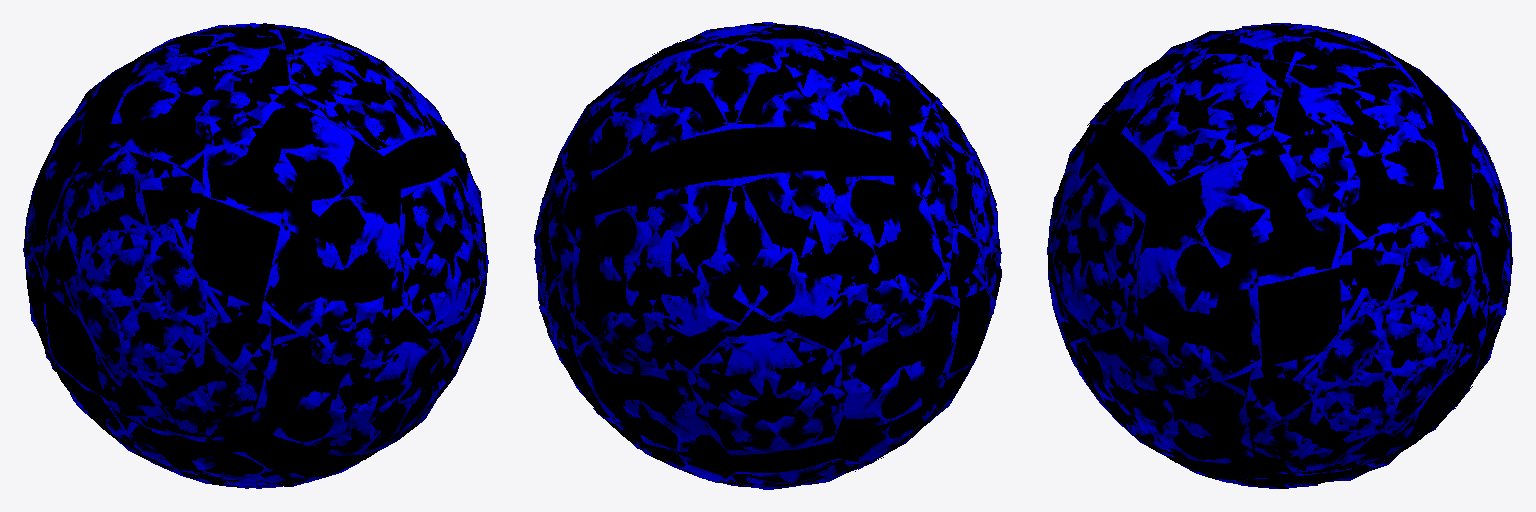
3 views of the same model, side by side, from view 1: azimuth 30°, elevation 25°; view 2: azimuth 150°, elevation 25°; view 3: azimuth 270°, elevation 25° (orthographic).
Parts seen in each view (by area): view 1: Icosphere, Icosphere.001; view 2: Icosphere, Icosphere.001; view 3: Icosphere, Icosphere.001.
Part boxes in pixels (x1,y1,x2,y2): Icosphere: (23,23,488,488); Icosphere.001: (25,27,486,486); Icosphere: (534,22,1001,489); Icosphere.001: (541,25,993,486); Icosphere: (1047,23,1512,488); Icosphere.001: (1049,25,1509,486).
Size of the model in its own units: 9.99 by 9.98 by 9.99.
Materials: 2 (1 with a texture image).